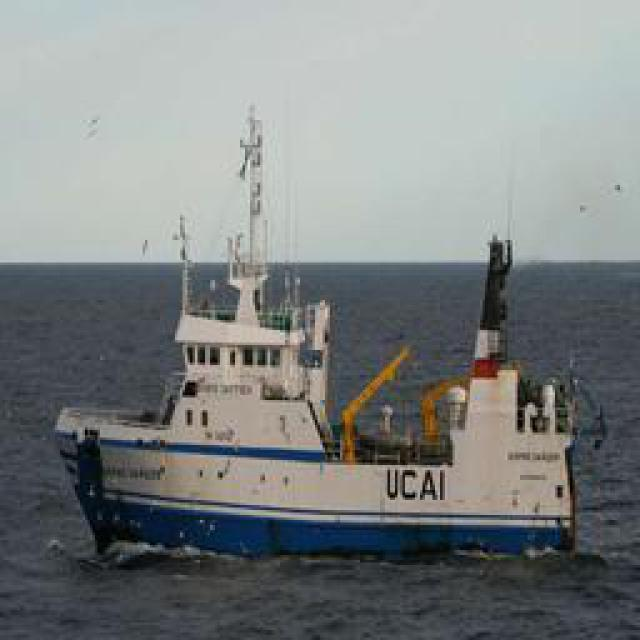Ship: (55, 175, 603, 563)
